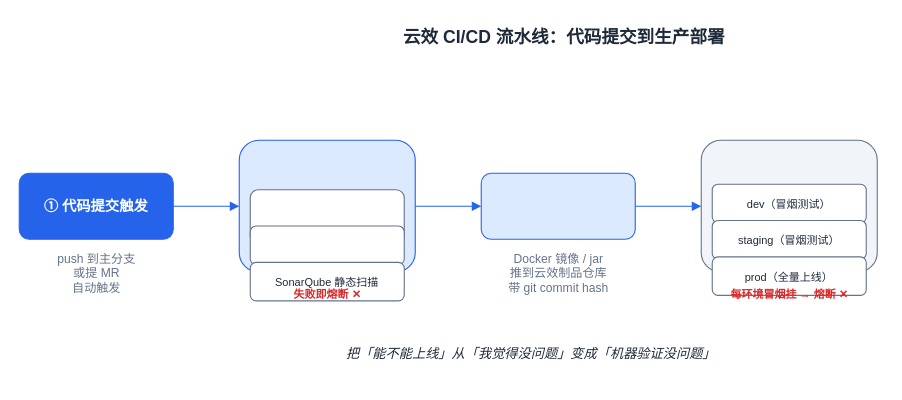
Some shapes in this 902 by 400 pixel diagram are drawn without their labels. The centre of each missing label's shape, as x and y in pixels:
mvn package npm run build: point 326,217
③ 制品打包入库: point 557,205
单测 + 契约测试: point 326,245
